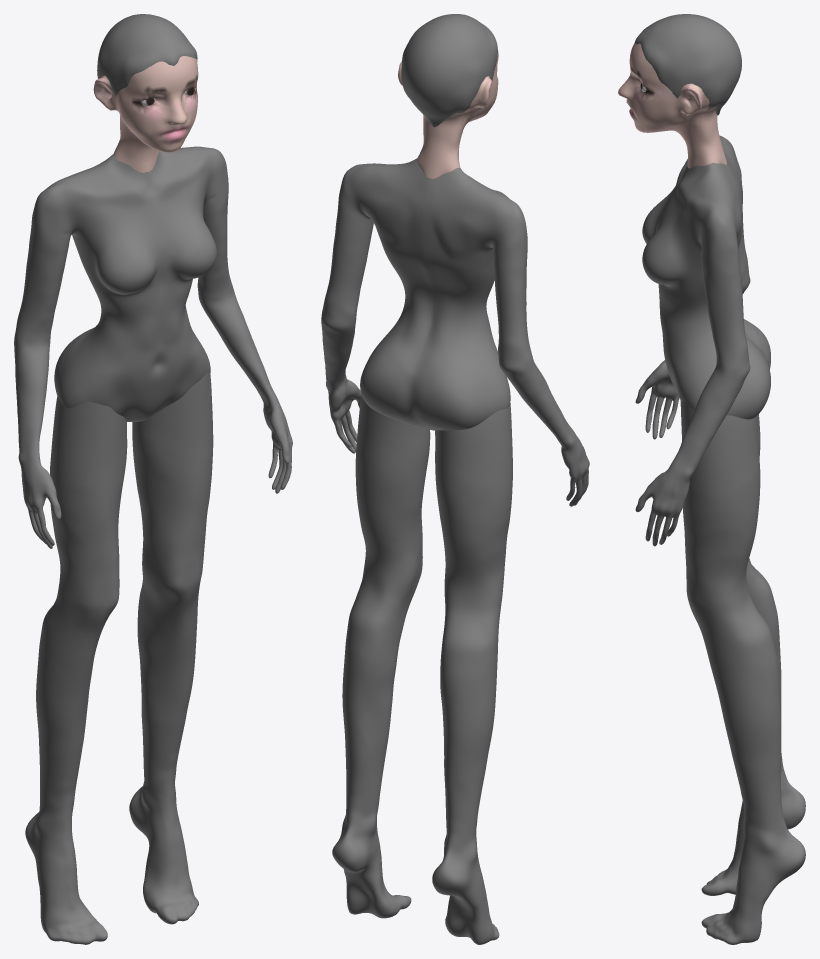
File: body.fbx
3 views of the same model, side by side, from view 1: azimuth 30°, elevation 25°; view 2: azimuth 150°, elevation 25°; view 3: azimuth 270°, elevation 25° (orthographic). The views are drawn at different scales.
Parts seen in each view (by area): view 1: upper-body2_1, bust1, hair cap1; view 2: upper-body2_1, hair cap1, bust1; view 3: upper-body2_1, hair cap1, bust1.
Boxes of the visible parts, left/top/right/bottom form: upper-body2_1: left=14, top=146, right=292, bottom=944; bust1: left=93, top=56, right=198, bottom=172; hair cap1: left=97, top=14, right=197, bottom=96; upper-body2_1: left=321, top=158, right=589, bottom=944; hair cap1: left=401, top=14, right=497, bottom=127; bust1: left=398, top=48, right=498, bottom=178; upper-body2_1: left=635, top=135, right=805, bottom=944; hair cap1: left=634, top=14, right=741, bottom=115; bust1: left=618, top=43, right=726, bottom=168.
Bounding box in the file's own units: 3.11 × 10.47 × 1.99.
